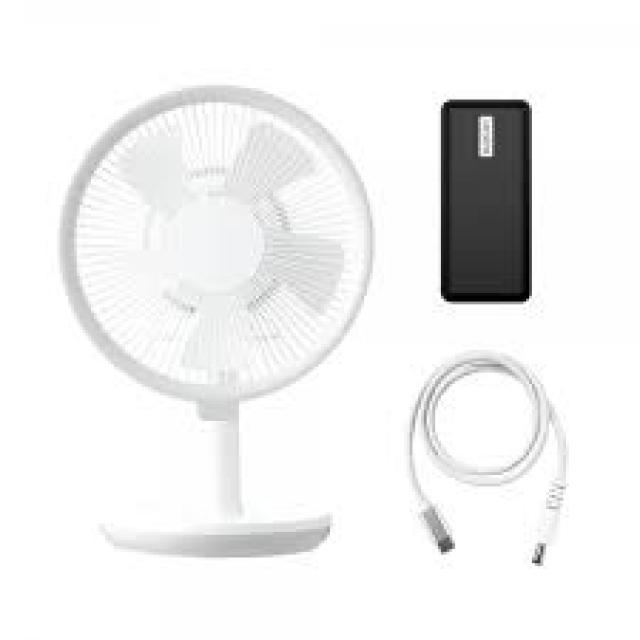power_bank: (436, 94, 536, 307)
